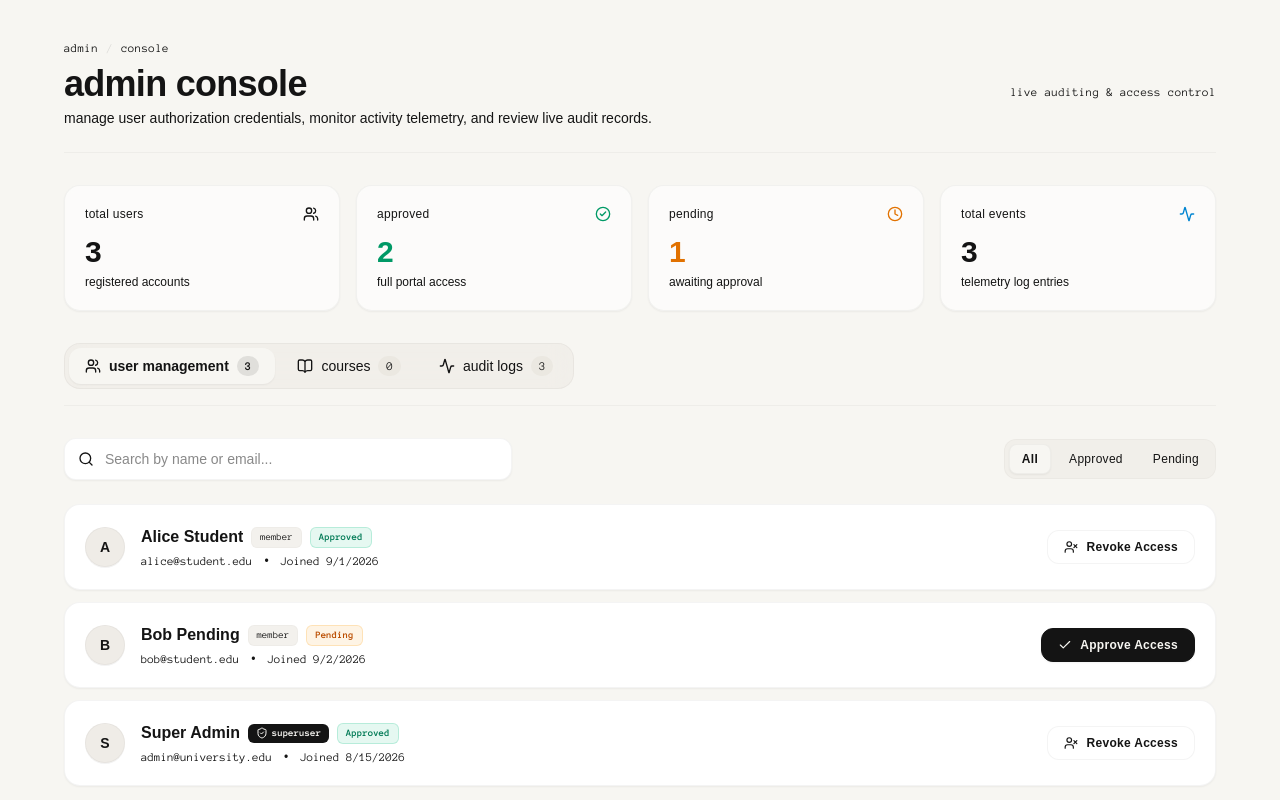
Admin Console & Audit Log Stream (Task 2) › filters users by status tabs (Approved / Pending)
Expected: the text "Alice Student" is shown, [141,525,243,549]
Note: Click Pending filter
Click the button "pending" at [1176, 459], box [1141,445,1211,473]
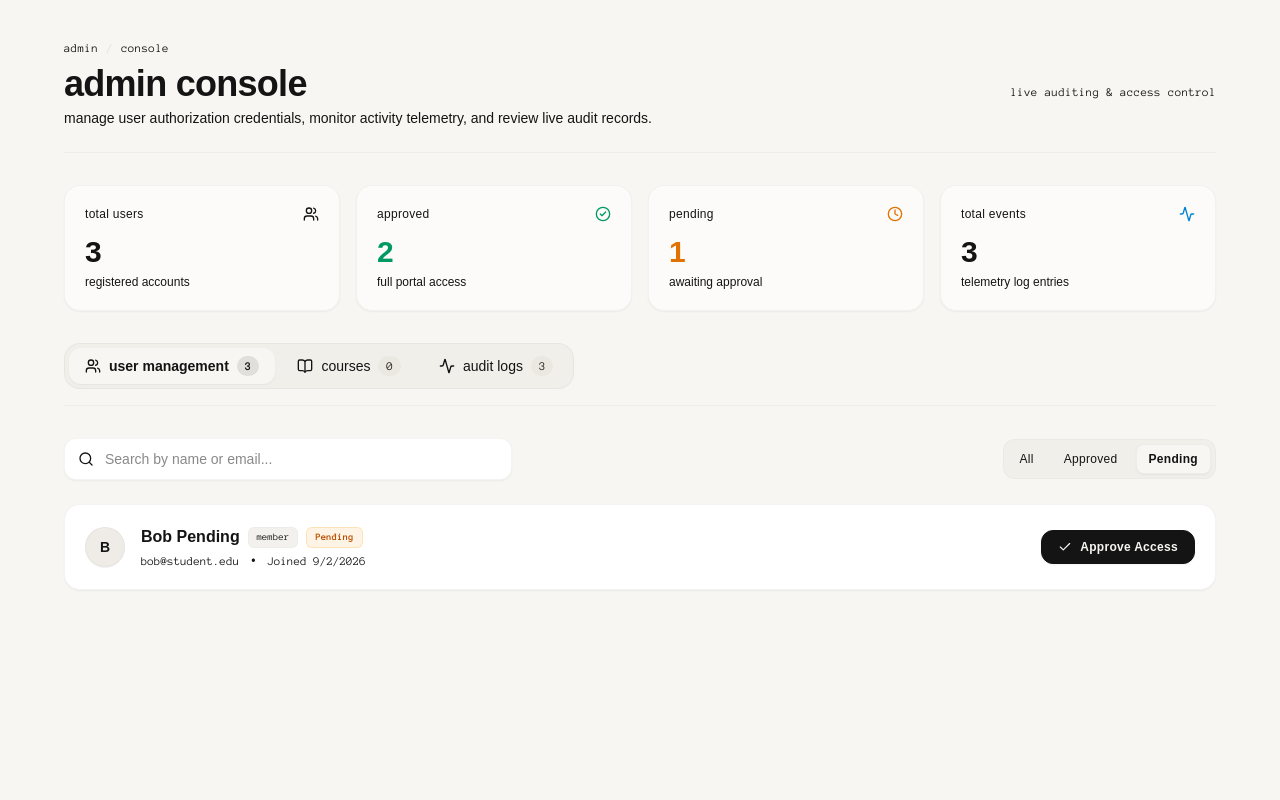
Expected: the text "Bob Pending" is shown, [141,525,240,549]
Now the text "Alice Student" is gone
Note: Click Approved filter
Click the button "approved" at [1091, 459], box [1052,445,1130,473]
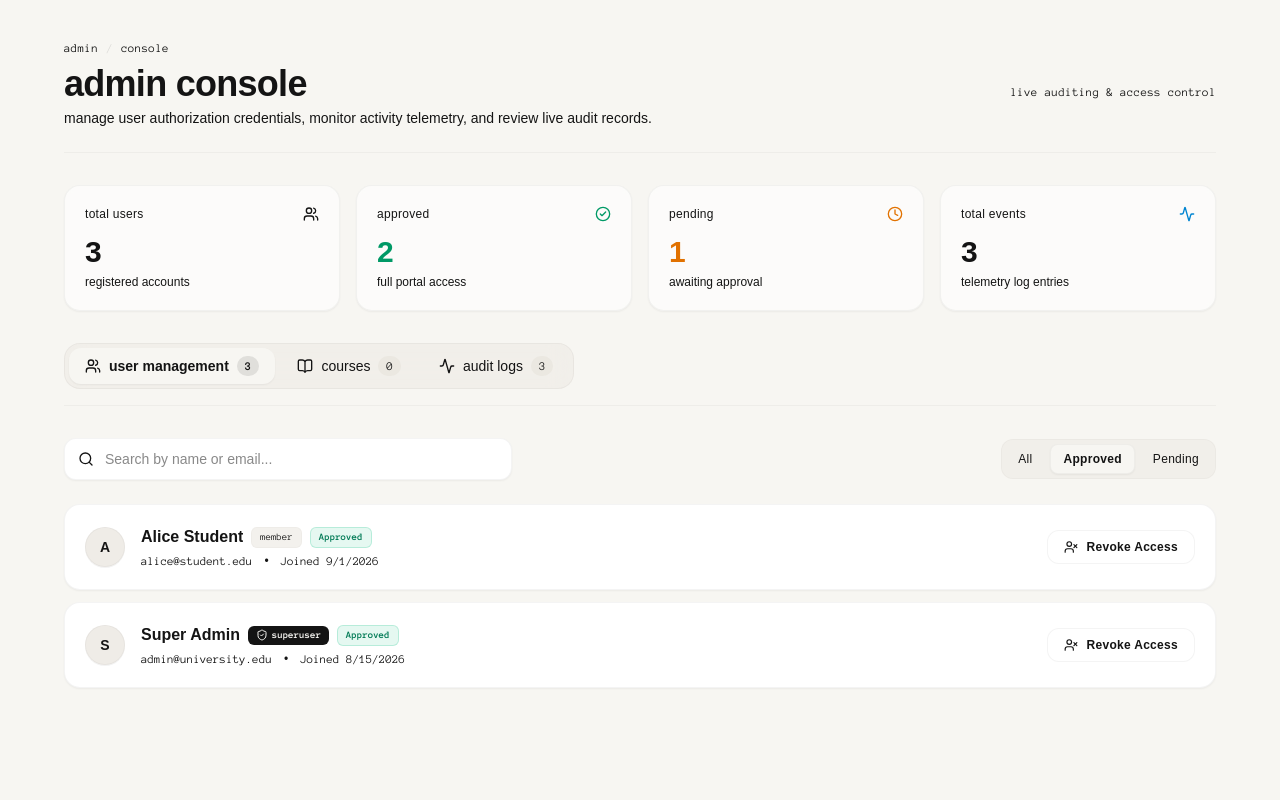
Now the text "Alice Student" is shown, box [141,525,243,549]
Now the text "Bob Pending" is gone
